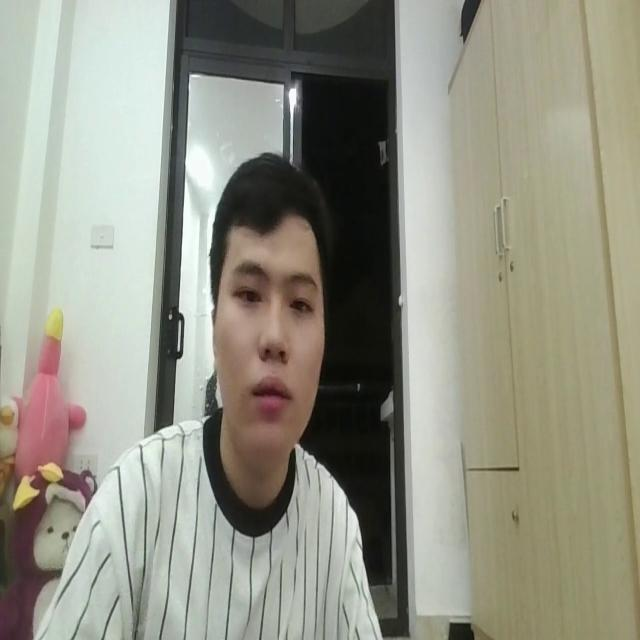student: (41, 150, 382, 640)
